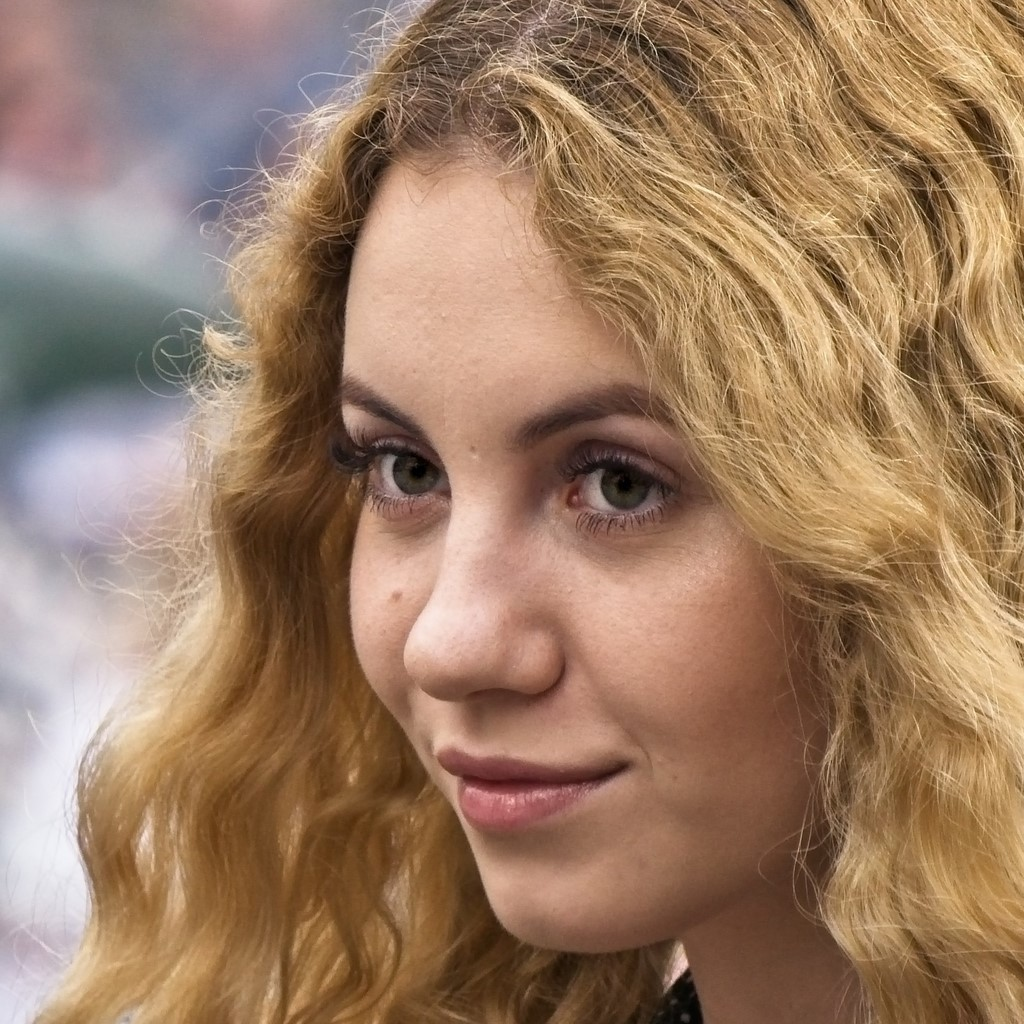sin_mascara: (326, 80, 902, 957)
